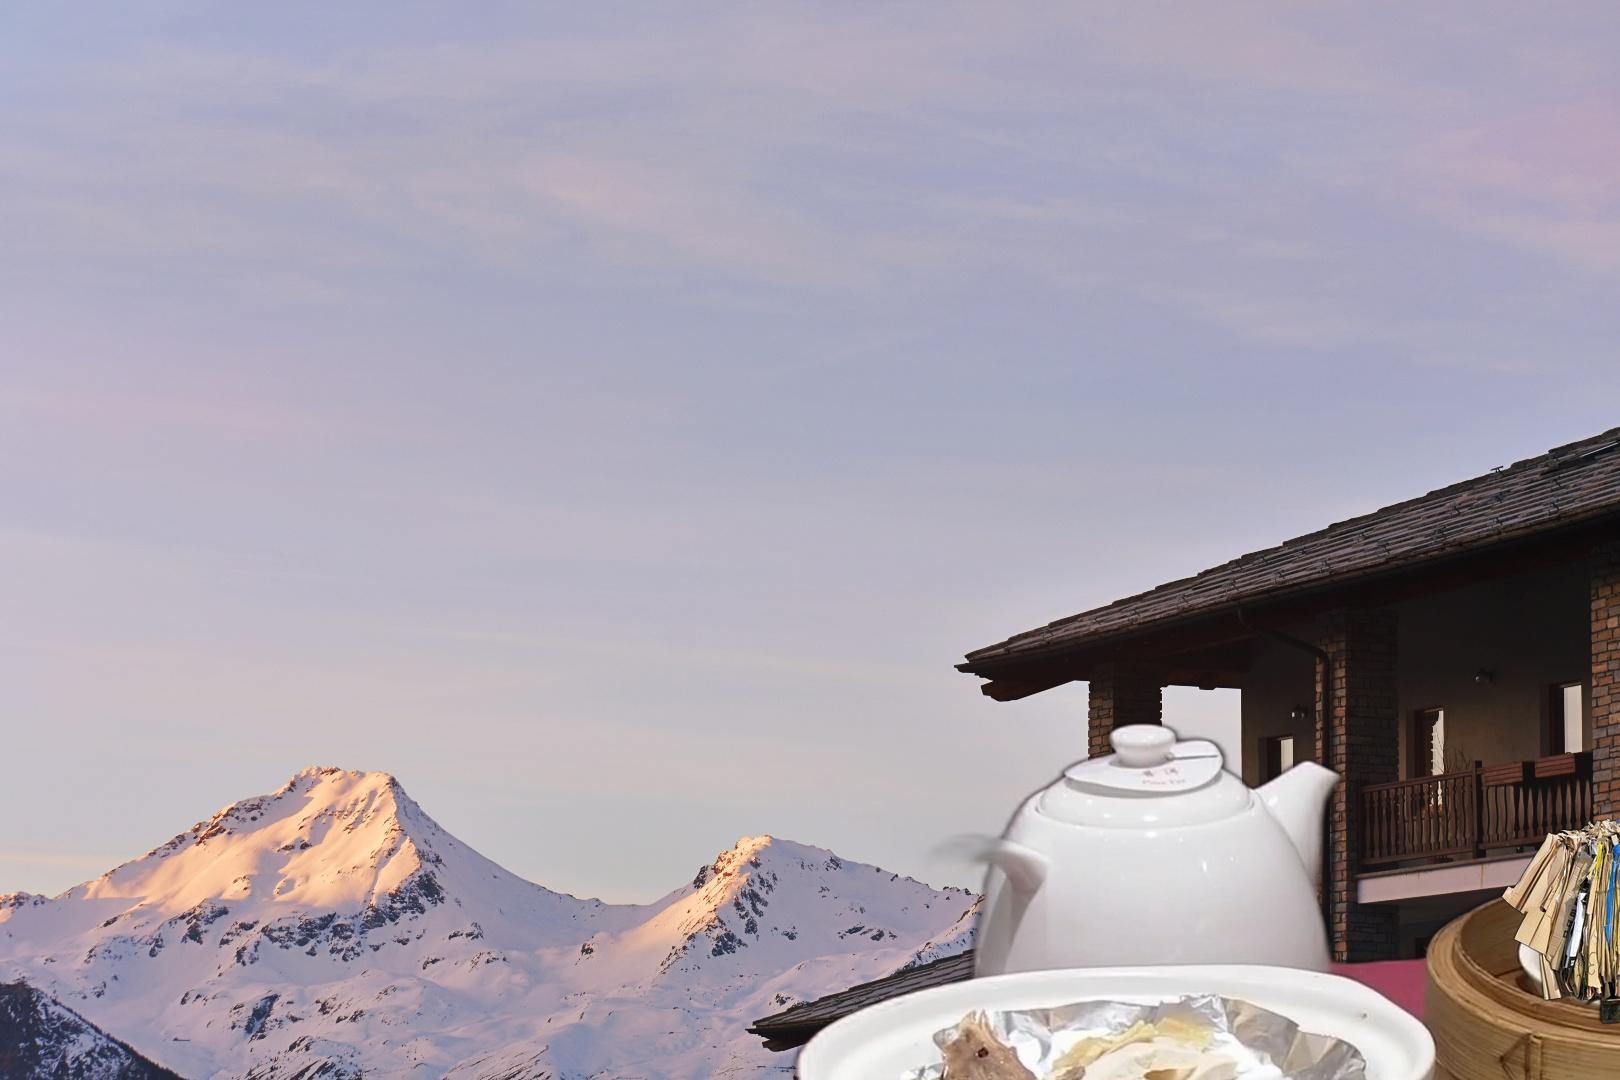biological: (606, 714, 1620, 1080)
trashbox-cardboard: (1498, 816, 1620, 1029)
